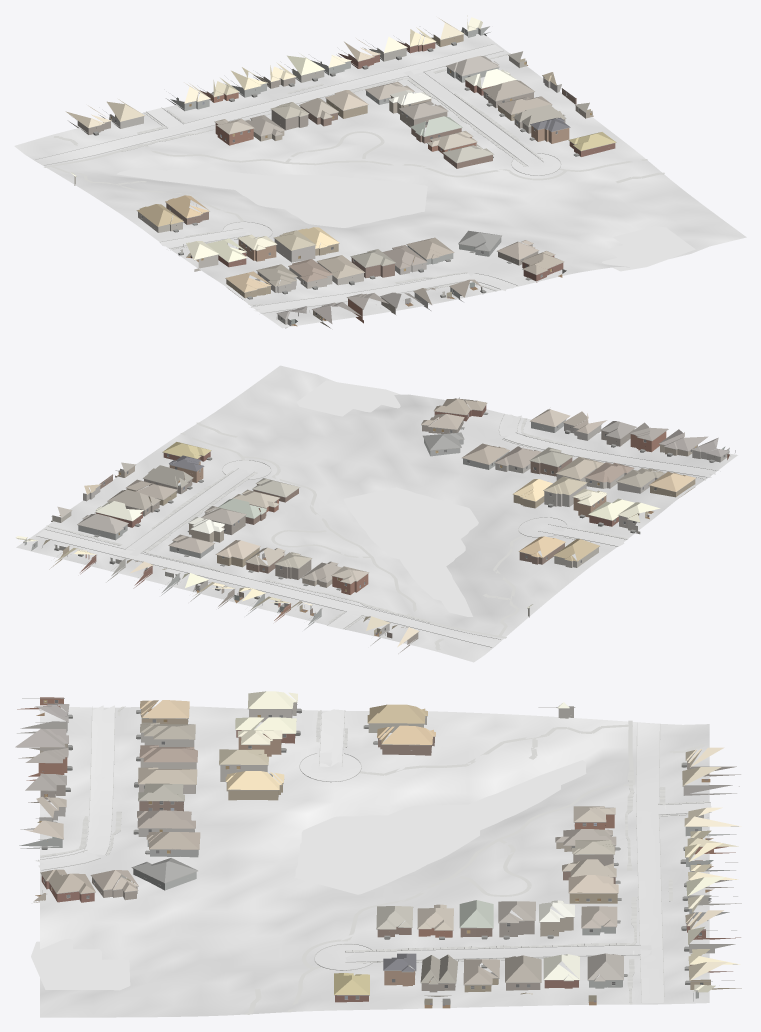
3 views of the same model, one above another, from view 1: azimuth 30°, elevation 25°; view 2: azimuth 150°, elevation 25°; view 3: azimuth 270°, elevation 25° (orthographic). The views are drawn at different scales.
Parts seen in each view (by area): view 1: ground, roof, water, concrete, wall, walk, wall_stucco, detail, curb, wall_stone; view 2: ground, roof, water, concrete, wall, walk, wall_stucco, detail, curb, wall_stone; view 3: ground, roof, water, concrete, wall, walk, wall_stucco, detail, curb, wall_stone, room.
Part boxes in pixels (x1=…): ground: x1=14, y1=33, x2=746, y2=328; roof: x1=65, y1=15, x2=615, y2=323; water: x1=117, y1=167, x2=695, y2=271; concrete: x1=35, y1=44, x2=560, y2=312; wall: x1=69, y1=33, x2=615, y2=328; walk: x1=44, y1=53, x2=664, y2=305; wall_stucco: x1=74, y1=26, x2=526, y2=301; detail: x1=76, y1=27, x2=616, y2=323; curb: x1=35, y1=44, x2=561, y2=313; wall_stone: x1=100, y1=77, x2=561, y2=328; ground: x1=16, y1=365, x2=737, y2=662; roof: x1=15, y1=398, x2=729, y2=647; water: x1=296, y1=380, x2=478, y2=616; concrete: x1=36, y1=414, x2=715, y2=647; wall: x1=49, y1=405, x2=729, y2=653; walk: x1=46, y1=418, x2=706, y2=650; wall_stucco: x1=24, y1=398, x2=640, y2=629; detail: x1=23, y1=400, x2=735, y2=642; curb: x1=36, y1=414, x2=717, y2=647; wall_stone: x1=83, y1=423, x2=729, y2=645; ground: x1=40, y1=706, x2=709, y2=1017; roof: x1=15, y1=691, x2=741, y2=996; water: x1=31, y1=760, x2=586, y2=990; concrete: x1=35, y1=705, x2=711, y2=1002; wall: x1=17, y1=697, x2=741, y2=1002; walk: x1=40, y1=706, x2=709, y2=1014; wall_stucco: x1=19, y1=702, x2=741, y2=1001; detail: x1=17, y1=698, x2=739, y2=1004; curb: x1=36, y1=706, x2=711, y2=1002; wall_stone: x1=17, y1=714, x2=736, y2=836; room: x1=35, y1=700, x2=713, y2=1008.
Bounding box in the file's own units: 257 × 21.3 × 274.
